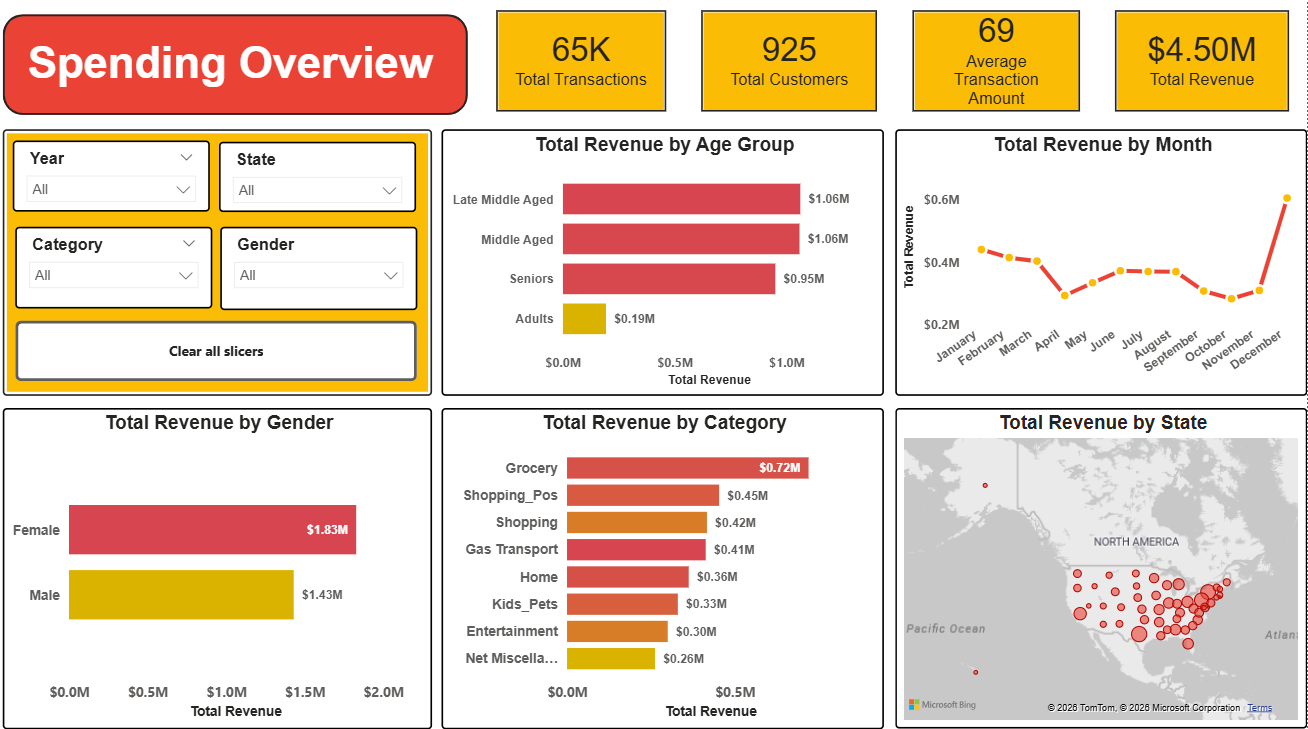

This screenshot's page, from the dashboard's own definition file:
{"tool":"powerbi","page":{"name":"Spending Overview","canvas":[1280,720],"ordinal":0},"visuals":[{"type":"group","id":"g1","title":"Group 1","box":[3.7,21,455,98.6],"z":0},{"type":"shape","box":[3.7,21,455,98.6],"z":1,"group":"g1"},{"type":"textbox","box":[23.4,39.2,414,63.7],"z":501,"group":"g1"},{"type":"cardVisual","fields":{"Data":["trasaction.Total Transactions"]},"box":[470.1,0,200.2,133.5],"z":1000},{"type":"cardVisual","fields":{"Data":["trasaction.Total Customers"]},"box":[670.3,0,206.3,133.5],"z":2000},{"type":"cardVisual","fields":{"Data":["trasaction.Average Trasaction Amount"]},"box":[876.6,0,198.7,133.5],"z":3000},{"type":"cardVisual","fields":{"Data":["trasaction.Total Revenue"]},"box":[1075.3,0,204.7,133.5],"z":4000},{"type":"lineChart","fields":{"Category":["trasaction.trans_date_trans_time.Variation.Date Hierarchy.Month"],"Y":["trasaction.Total Revenue"]},"box":[876.6,133.2,403.4,261.2],"z":5000},{"type":"barChart","fields":{"Category":["trasaction.category"],"Y":["trasaction.Total Revenue"]},"box":[433.1,406,433.1,314.2],"z":6000},{"type":"map","fields":{"Category":["trasaction.state"],"Size":["trasaction.Total Revenue"]},"box":[876.6,406.4,403.4,313.9],"z":7000},{"type":"barChart","fields":{"Category":["trasaction.age_group"],"Y":["trasaction.Total Revenue"]},"box":[433.1,133.2,433.1,261.2],"z":8000},{"type":"barChart","fields":{"Category":["trasaction.gender"],"Y":["trasaction.Total Revenue"]},"box":[3.9,406,420.2,314.2],"z":9000},{"type":"shape","box":[3.9,133.2,420.2,261.2],"z":10000},{"type":"slicer","fields":{"Values":["trasaction.trans_date_trans_time.Variation.Date Hierarchy.Year"]},"box":[12.9,144.8,192.6,69.8],"z":11000},{"type":"slicer","fields":{"Values":["trasaction.state"]},"box":[214.6,146.1,192.6,68.5],"z":12000},{"type":"slicer","fields":{"Values":["trasaction.category"]},"box":[15.5,228.8,192.6,80.2],"z":13000},{"type":"slicer","fields":{"Values":["trasaction.gender"]},"box":[215.9,228.8,192.6,81.5],"z":14000},{"type":"actionButton","box":[15.5,320.6,393.1,59.5],"z":15000}]}

Visuals, with their boxes in screenshot pixels (x1, y1, x2, y2), scaled from the page's 1280x720 canvas onto the 1308x729 screenshot:
"Group 1" group: (4, 21, 469, 121)
shape: (4, 21, 469, 121)
textbox: (24, 40, 447, 104)
cardVisual - trasaction.Total Transactions: (480, 0, 685, 135)
cardVisual - trasaction.Total Customers: (685, 0, 896, 135)
cardVisual - trasaction.Average Trasaction Amount: (896, 0, 1099, 135)
cardVisual - trasaction.Total Revenue: (1099, 0, 1307, 135)
lineChart - trasaction.trans_date_trans_time.Variation.Date Hierarchy.Month x trasaction.Total Revenue: (896, 135, 1307, 399)
barChart - trasaction.category x trasaction.Total Revenue: (443, 411, 885, 728)
map - trasaction.state x trasaction.Total Revenue: (896, 411, 1307, 728)
barChart - trasaction.age_group x trasaction.Total Revenue: (443, 135, 885, 399)
barChart - trasaction.gender x trasaction.Total Revenue: (4, 411, 433, 728)
shape: (4, 135, 433, 399)
slicer - trasaction.trans_date_trans_time.Variation.Date Hierarchy.Year: (13, 147, 210, 217)
slicer - trasaction.state: (219, 148, 416, 217)
slicer - trasaction.category: (16, 232, 213, 313)
slicer - trasaction.gender: (221, 232, 417, 314)
actionButton: (16, 325, 418, 385)
